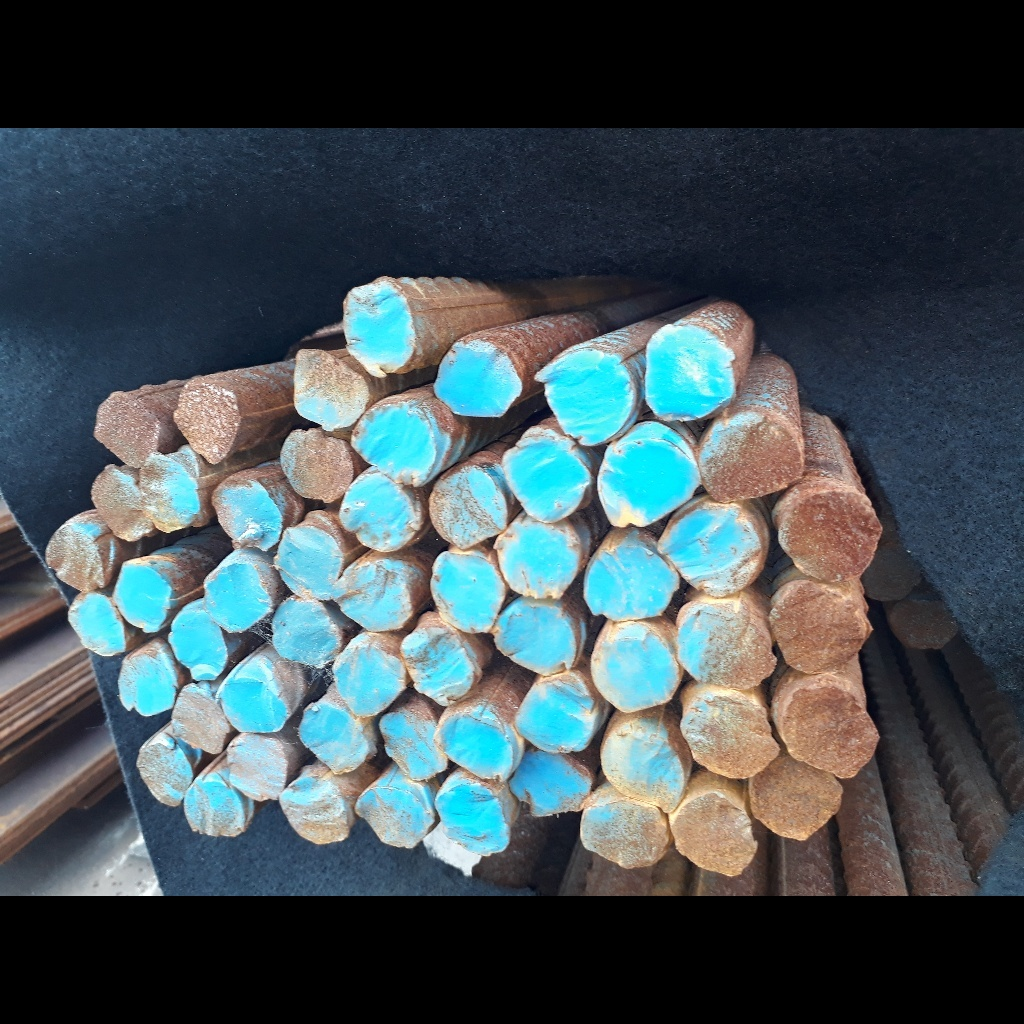dipstick: (781, 488, 879, 579), (700, 413, 801, 501), (645, 324, 732, 420), (787, 688, 880, 777), (675, 606, 778, 685), (540, 354, 635, 439), (780, 582, 872, 669), (597, 440, 698, 519), (686, 694, 779, 777), (673, 505, 760, 593), (505, 439, 595, 519), (432, 341, 523, 419), (593, 627, 678, 710), (587, 545, 675, 620), (675, 794, 753, 876), (345, 283, 416, 373), (751, 769, 843, 838), (357, 404, 435, 485), (496, 518, 579, 593), (603, 727, 682, 801), (497, 604, 581, 673), (345, 476, 421, 551), (518, 676, 593, 751), (435, 785, 512, 857), (582, 803, 668, 866), (440, 711, 515, 781), (356, 788, 436, 853), (405, 629, 477, 701), (339, 563, 413, 632), (295, 351, 364, 424), (511, 754, 592, 816), (385, 701, 446, 782), (337, 643, 406, 714), (212, 478, 280, 549), (283, 431, 351, 500), (96, 392, 160, 463), (181, 378, 233, 460), (285, 781, 350, 845), (209, 562, 271, 629), (281, 527, 337, 601), (277, 600, 337, 668), (170, 610, 226, 682), (304, 707, 367, 770), (46, 525, 107, 590), (143, 455, 197, 528), (96, 468, 148, 541), (222, 678, 287, 733), (187, 779, 245, 840), (118, 650, 175, 712), (227, 736, 284, 798), (69, 595, 125, 656), (117, 566, 168, 629), (173, 693, 225, 754), (139, 743, 191, 802)
